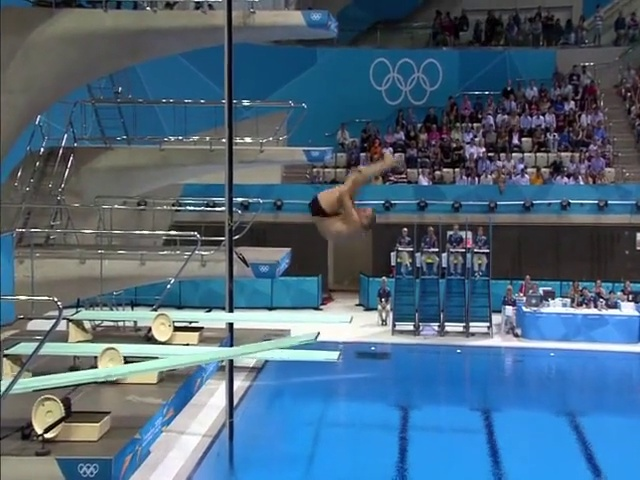diver: (308, 158, 399, 243)
